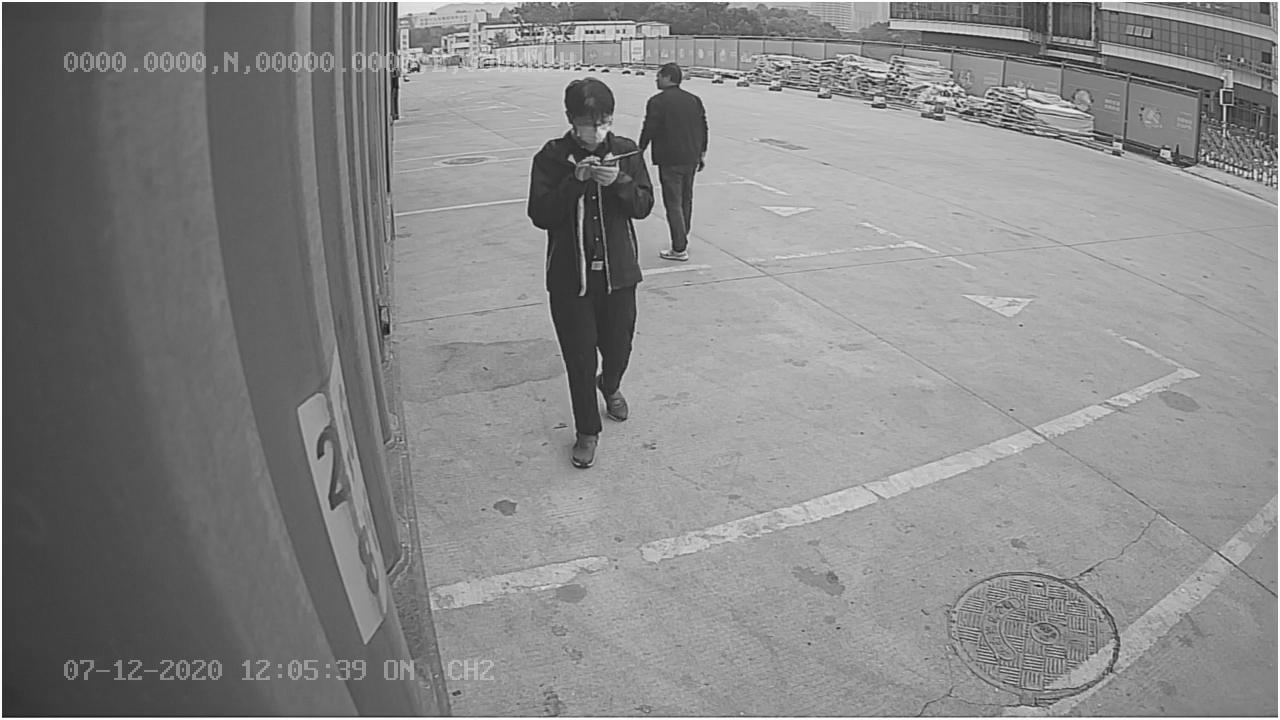person: (531, 75, 652, 463)
